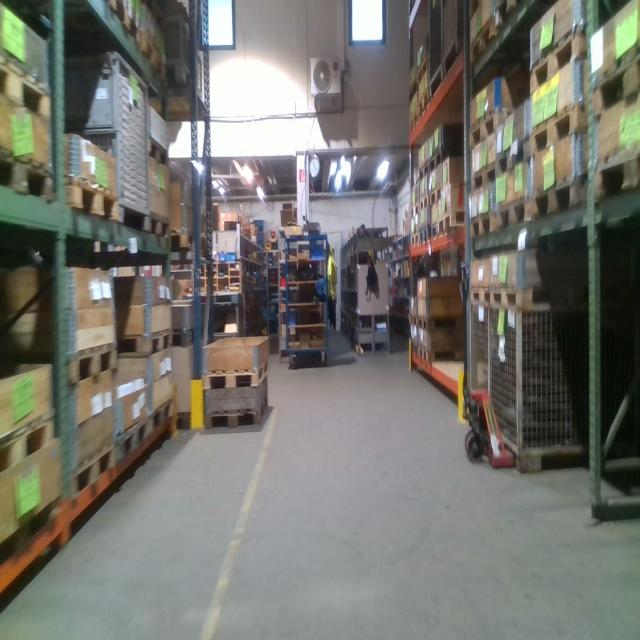pallet: (21, 335, 120, 386), (528, 28, 590, 97), (0, 405, 57, 476), (51, 2, 135, 46), (1, 139, 56, 204), (1, 53, 52, 122), (69, 438, 118, 506), (590, 51, 638, 120), (530, 100, 586, 156), (490, 287, 591, 312), (468, 102, 519, 150), (532, 177, 585, 222), (593, 154, 638, 206), (207, 394, 270, 430), (115, 413, 152, 473), (204, 358, 271, 390), (119, 324, 176, 354), (66, 178, 121, 208), (496, 136, 532, 178), (141, 35, 166, 86), (149, 392, 174, 442), (470, 20, 495, 65), (496, 197, 530, 230), (494, 2, 534, 29), (143, 135, 171, 171), (428, 148, 459, 179), (472, 158, 498, 192), (416, 312, 459, 332), (146, 207, 172, 240), (420, 344, 460, 363), (470, 210, 494, 238), (468, 283, 490, 310), (437, 215, 466, 232), (418, 89, 431, 122), (416, 58, 429, 90), (428, 183, 444, 206), (417, 162, 432, 183), (408, 111, 419, 136), (429, 224, 443, 242), (407, 81, 416, 107), (408, 203, 420, 222), (419, 226, 429, 246), (420, 196, 429, 213), (409, 236, 421, 247)
pallet_truck: (454, 254, 522, 475)
stillage: (487, 301, 629, 475), (58, 45, 152, 238), (160, 11, 204, 105), (466, 291, 488, 407), (440, 2, 470, 81), (426, 0, 444, 100)
